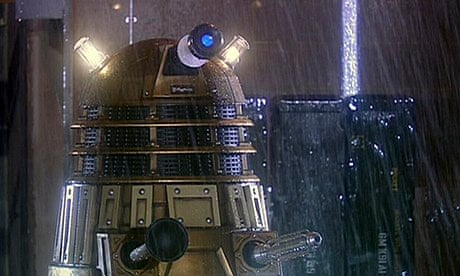dalek: (26, 0, 298, 276)
